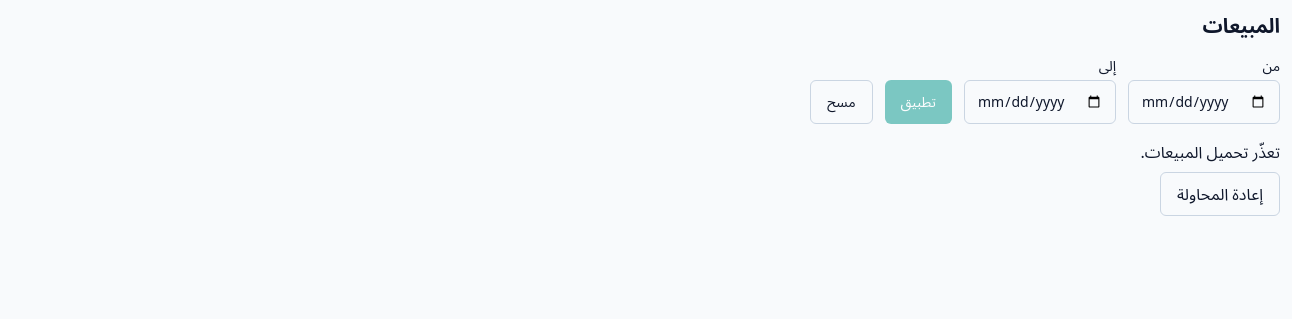
SalesPage › shows error state with retry button
Expected: the message "تعذّر تحميل المبيعات. إعادة المحاولة" is shown, [1140,141,1280,216]
Expected: the text "تعذّر تحميل المبيعات." is shown, [1140,140,1280,164]
Click the button "إعادة المحاولة" at [1220, 194], box [1160,172,1280,216]
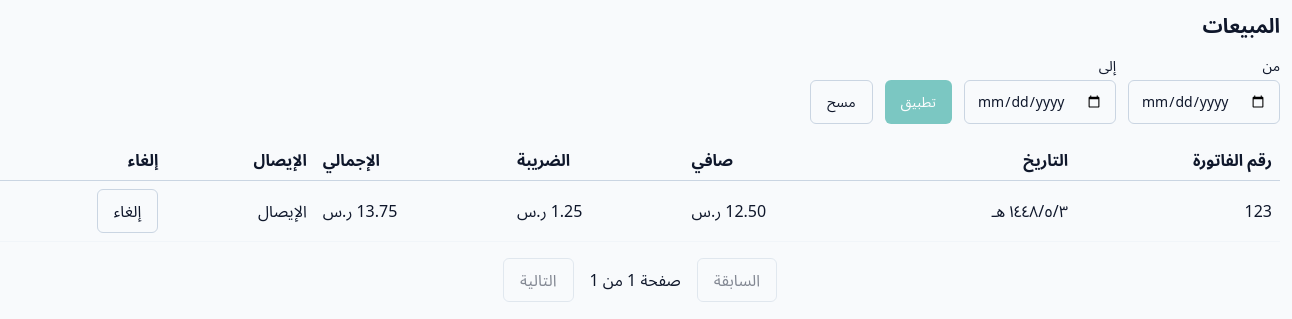
Result: the text "123" is shown at [1076,180,1280,242]
